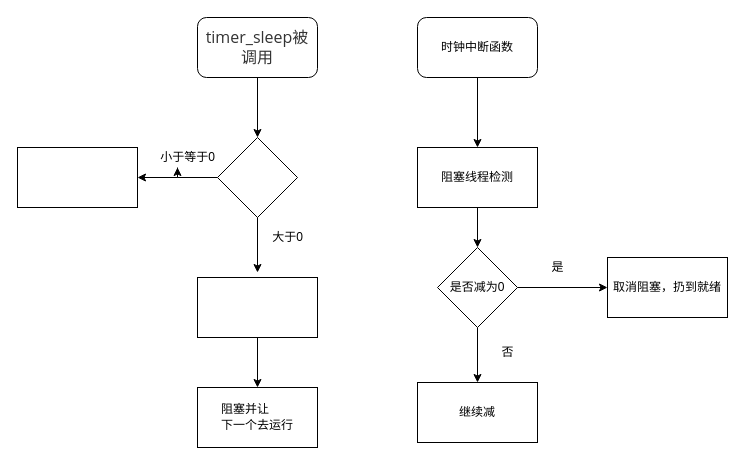
The diagram is 745 pixels wide and 465 high, and some of its shapes have lost their labels. The centre of each missing label's shape, as x and y in pixels:
"判断ticks" belongs at (x=257, y=177).
"直接返回" belongs at (x=77, y=177).
"获取参数之后进行阻塞函数调用thread_block" belongs at (x=257, y=307).
